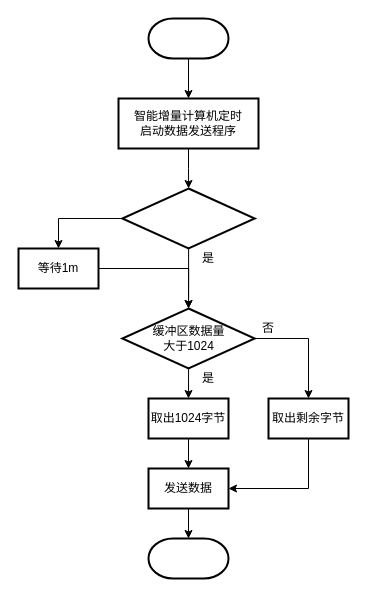
Some shapes in this 366 by 596 pixel diagram are drawn without their labels. The box of each missing label's shape, as (x1, y1, x2, y2) in pixels:
开始: (147, 17, 229, 59)
接收端流量 大于4M: (121, 187, 255, 249)
结束: (147, 537, 229, 579)
